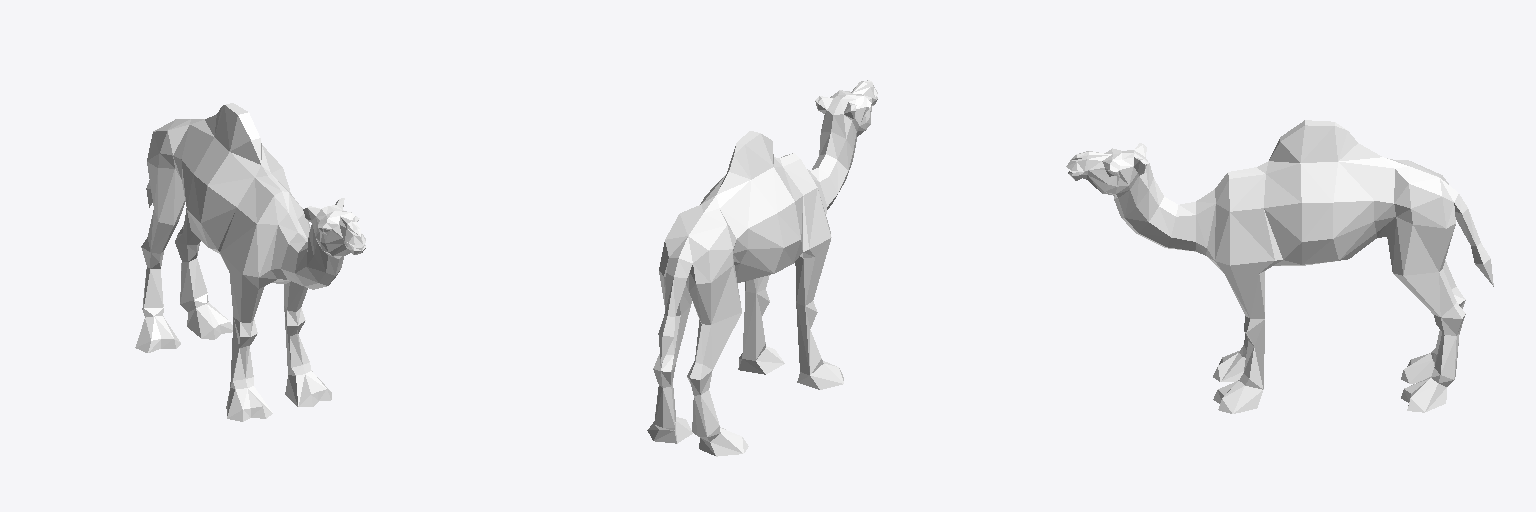
Rendered from camel.obj.
The picture shows the model from 3 angles: view 1: azimuth 30°, elevation 25°; view 2: azimuth 150°, elevation 25°; view 3: azimuth 270°, elevation 25°; orthographic projection.
Parts seen in each view (by area): view 1: Editable_Mesh; view 2: Editable_Mesh; view 3: Editable_Mesh.
Boxes of the visible parts, <box> form: Editable_Mesh: <box>135,103,365,421</box>; Editable_Mesh: <box>647,80,877,456</box>; Editable_Mesh: <box>1066,120,1493,413</box>.
Bounding box in the file's own units: 0.9478 × 2.29 × 3.33.